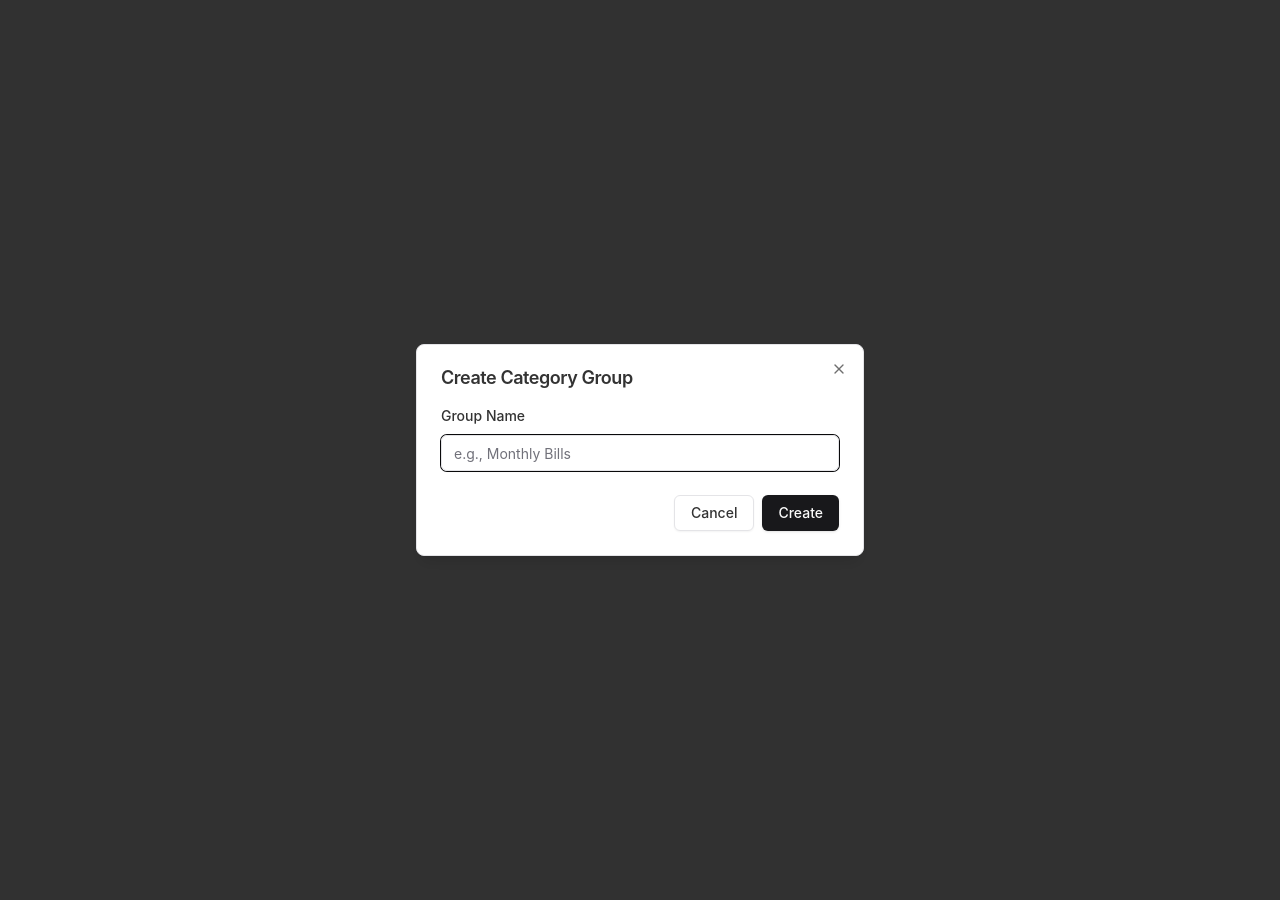
Test: CategoryGroupModal › Loading states › should disable submit button while saving
Type "Test Group" into the field labelled "Group Name" at (640, 453), box [441,435,839,471]
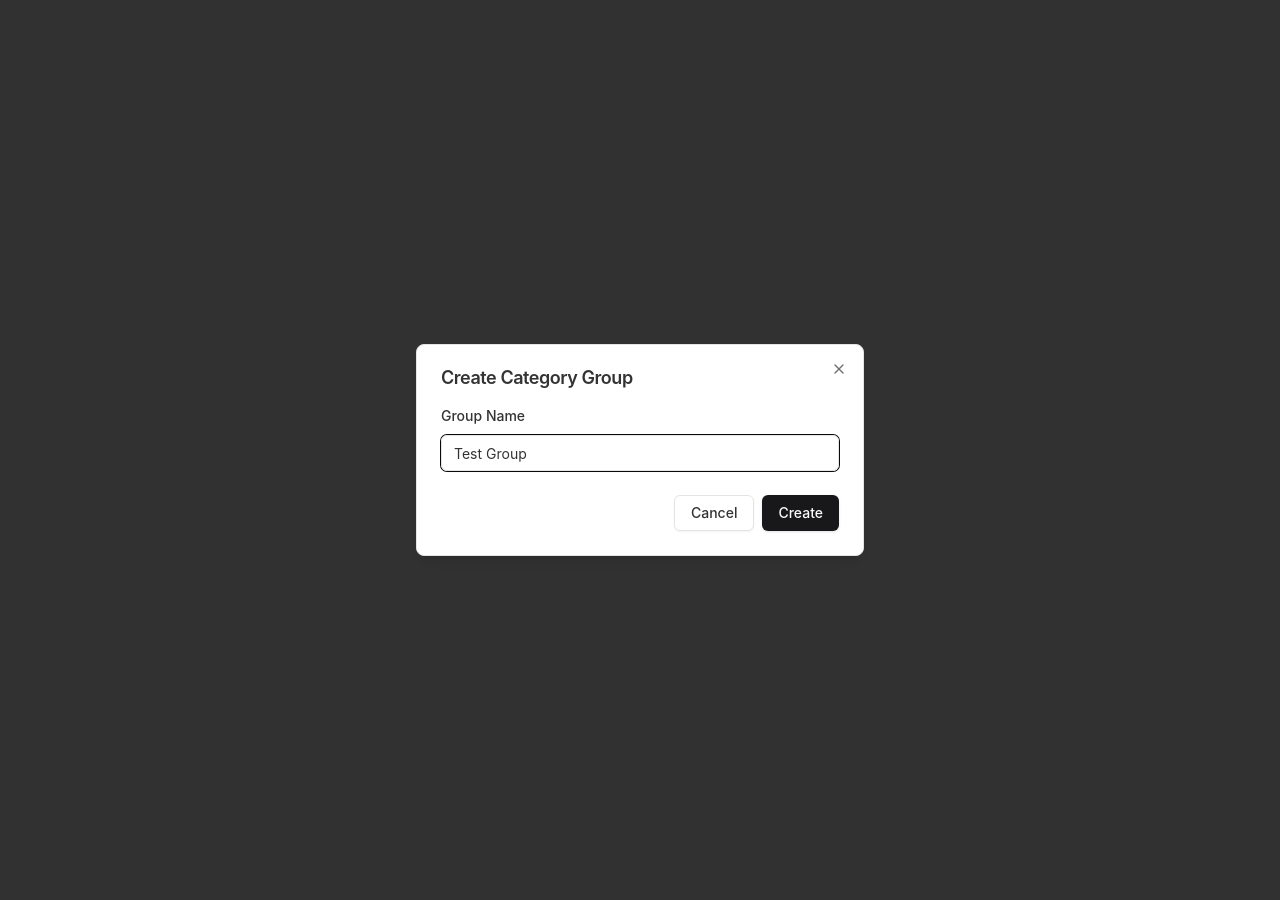
Click the button "Create" at (801, 513), box [762,495,839,531]
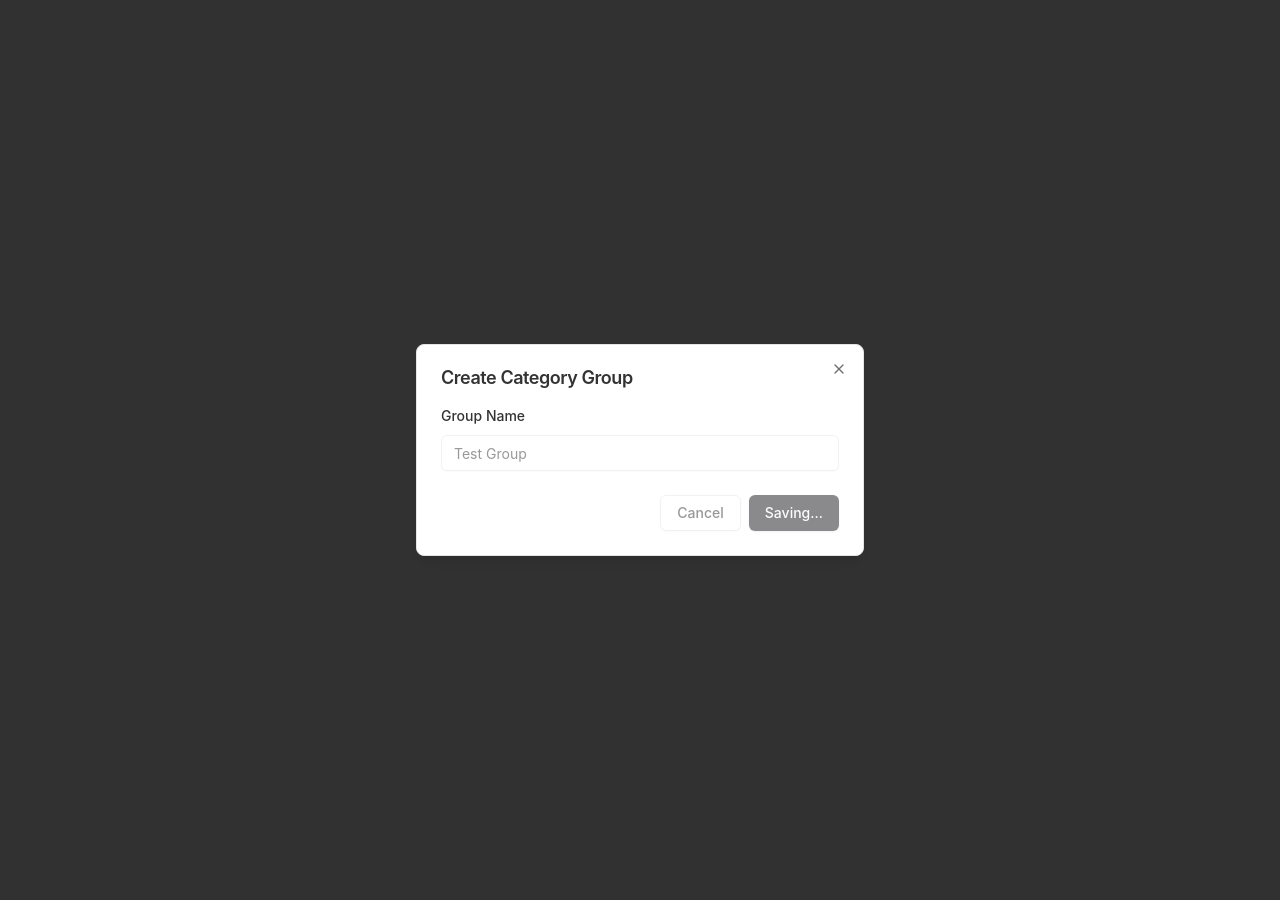
Now the button "Saving..." is disabled, box [749,495,839,531]
